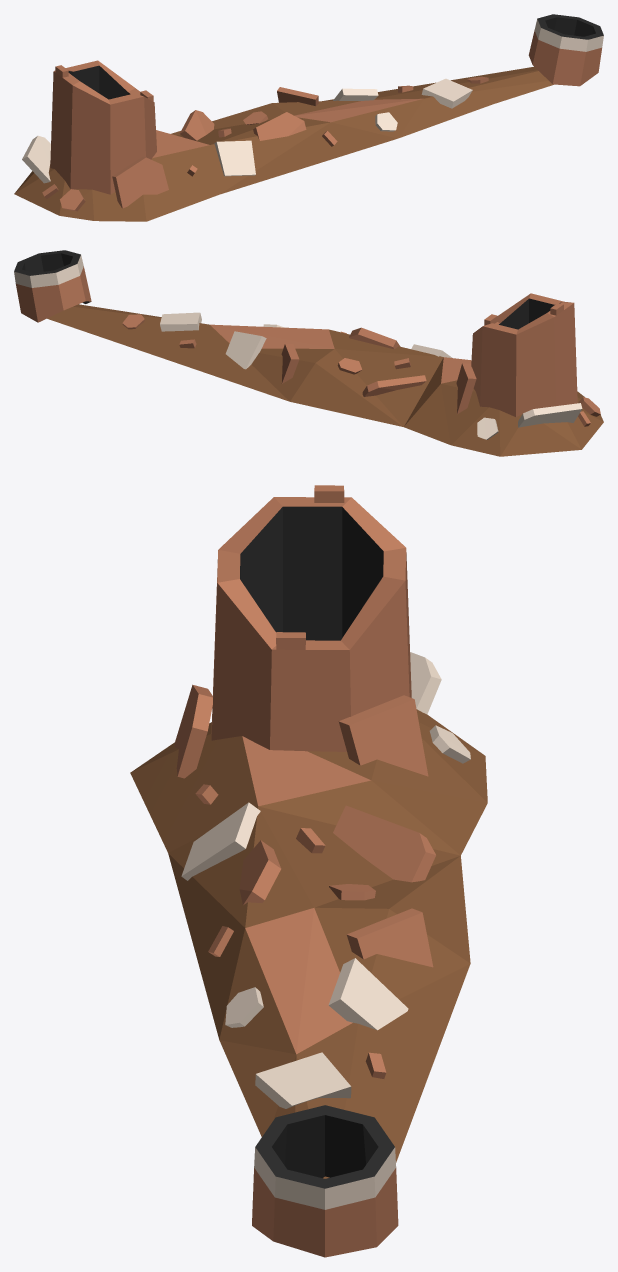
The model's file is apocalypse_chimney-big-torndown.fbx.
The picture shows the model from 3 angles, top to bottom: view 1: azimuth 30°, elevation 25°; view 2: azimuth 150°, elevation 25°; view 3: azimuth 270°, elevation 25°; orthographic projection. The views are drawn at different scales.
Parts seen in each view (by area): view 1: apocalypse_chimney_big_torndown; view 2: apocalypse_chimney_big_torndown; view 3: apocalypse_chimney_big_torndown.
Part boxes in pixels (x1,y1,x2,y2): apocalypse_chimney_big_torndown: (14, 14, 603, 221); apocalypse_chimney_big_torndown: (14, 250, 603, 456); apocalypse_chimney_big_torndown: (130, 485, 487, 1257).
Bounding box in the file's own units: 200 × 41.87 × 54.01.
